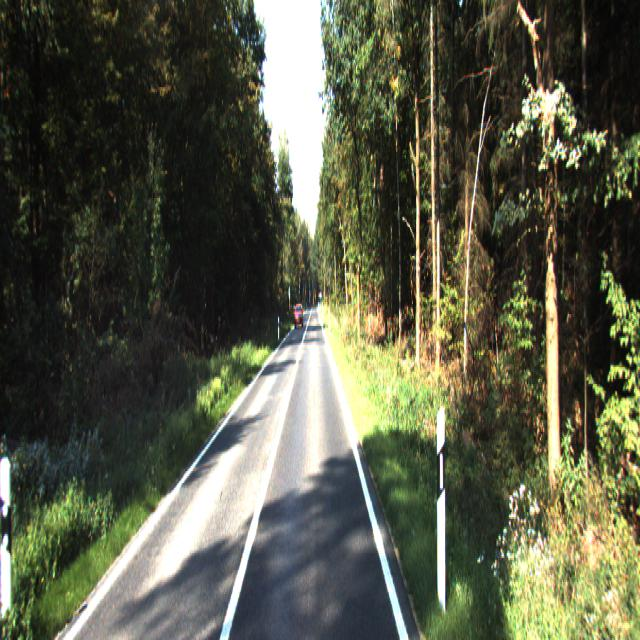Car: (294, 306, 304, 330)
